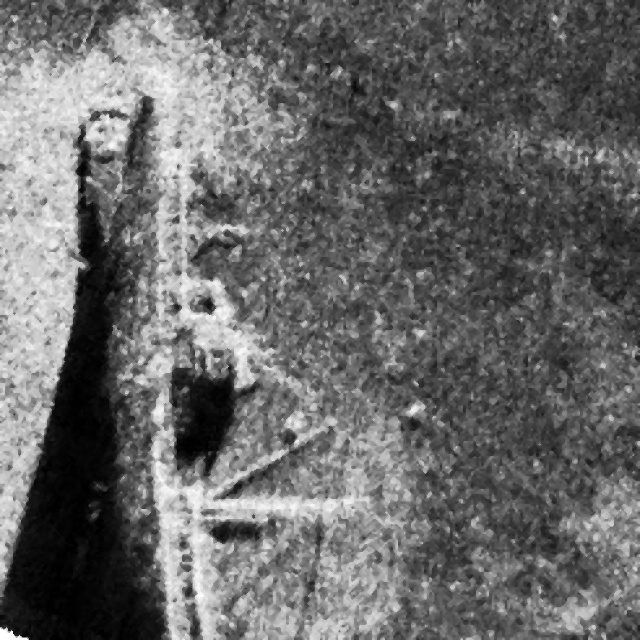Ship: (62, 80, 265, 640)
